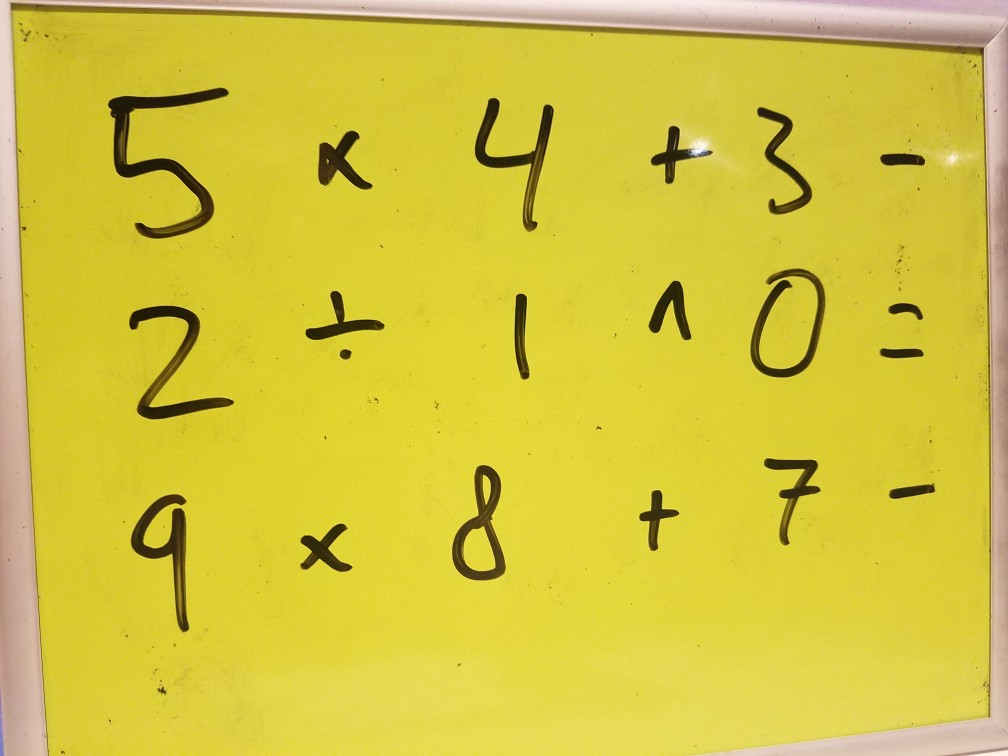+: (635, 110, 724, 201), (626, 476, 691, 562)
-: (874, 466, 957, 526), (873, 134, 934, 183)
0: (739, 258, 835, 389)
1: (489, 281, 547, 404)
2: (100, 295, 259, 439)
3: (748, 86, 818, 240)
4: (459, 79, 576, 247)
5: (93, 75, 240, 250)
7: (744, 418, 833, 565)
8: (444, 457, 517, 592)
9: (109, 485, 213, 645)
=: (864, 287, 944, 381)
^: (636, 259, 707, 365)
div: (288, 273, 393, 371)
x: (306, 117, 394, 222), (285, 505, 358, 591)
